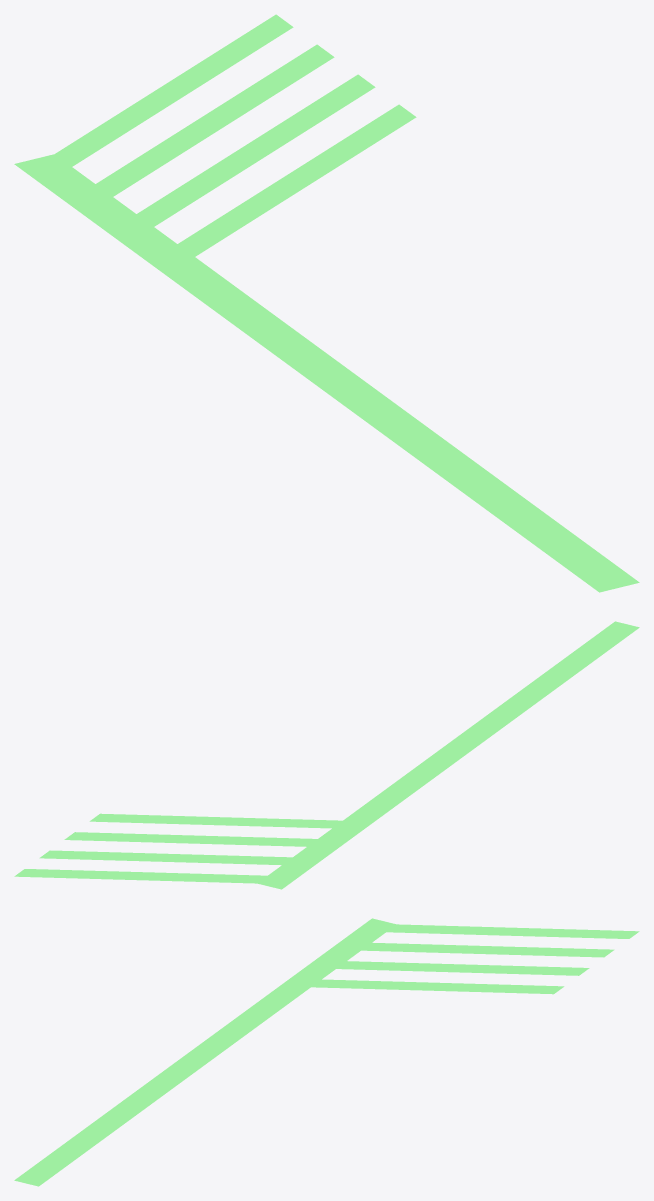
Rendered from daes009nhemi03750425kts.dae.
3 renders of one model, top to bottom at view 1: azimuth 30°, elevation 25°; view 2: azimuth 150°, elevation 25°; view 3: azimuth 330°, elevation 25°, orthographic. The views are drawn at different scales.
Visible parts, largest first — view 1: Plane; view 2: Plane; view 3: Plane.
Part boxes in pixels (bbox=[...]): Plane: bbox=[14, 15, 639, 592]; Plane: bbox=[15, 621, 639, 889]; Plane: bbox=[14, 918, 638, 1186].
Size of the model in its own units: 34.51 by 115 by 0.
